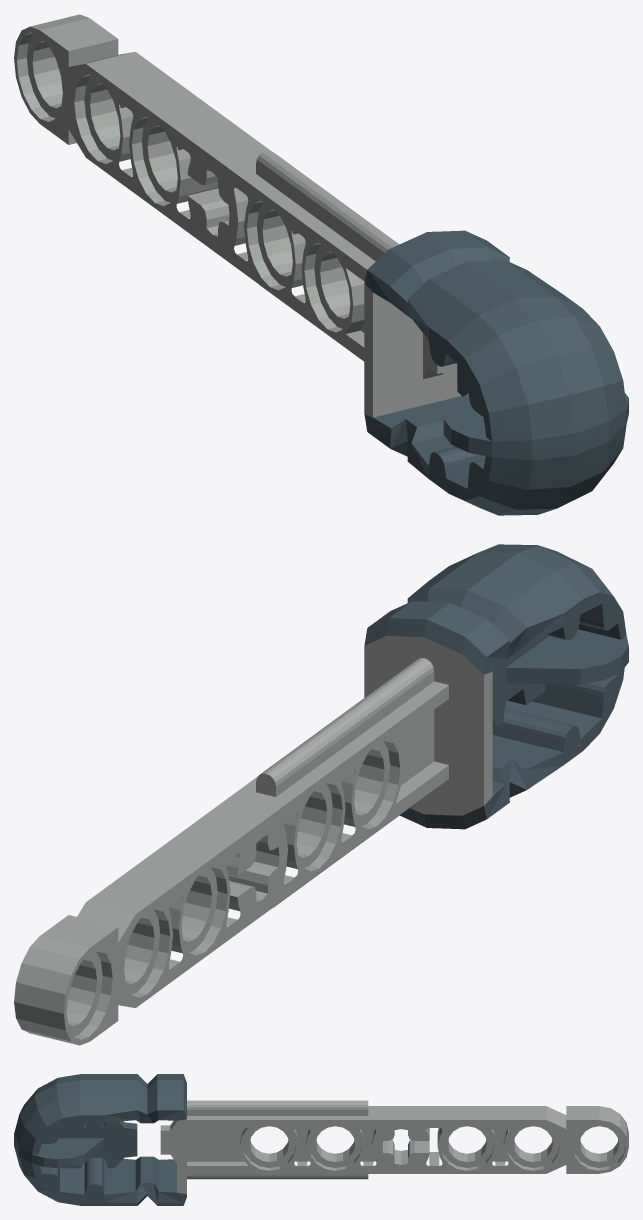
3 views of the same model, one above another, from view 1: azimuth 30°, elevation 25°; view 2: azimuth 150°, elevation 25°; view 3: azimuth 270°, elevation 25° (orthographic). The views are drawn at different scales.
Parts seen in each view (by area): view 1: world; view 2: world; view 3: world.
Boxes of the visible parts, x1,y1,x2,y2 form: world: [14, 14, 628, 515]; world: [14, 544, 628, 1045]; world: [14, 1074, 628, 1205].
Bounding box in the file's own units: 0.0136 × 0.016 × 0.0746.
